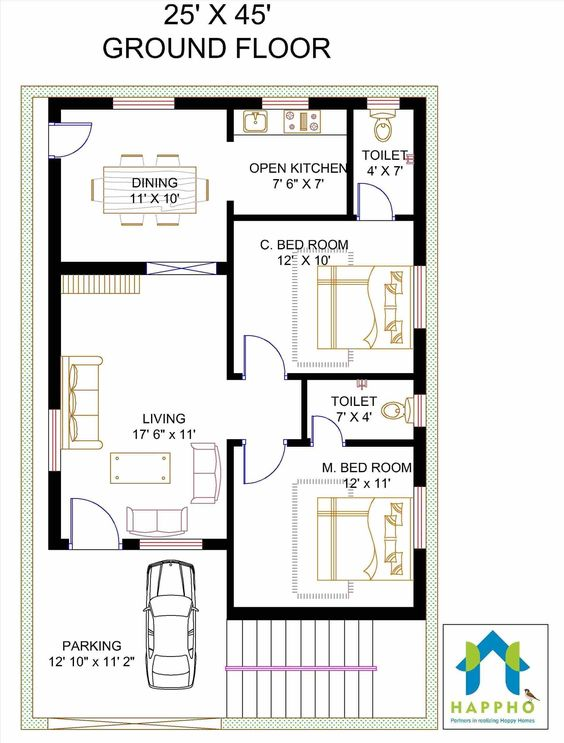door: (239, 329, 289, 372), (241, 448, 285, 487), (355, 180, 394, 213), (309, 412, 346, 443)
room: (48, 262, 235, 551), (225, 439, 427, 620), (227, 214, 427, 380), (49, 97, 234, 275), (228, 98, 353, 221), (347, 97, 425, 220), (302, 373, 427, 447)
window: (410, 266, 427, 330), (412, 485, 429, 549), (47, 408, 62, 473), (138, 538, 203, 550), (112, 98, 175, 109), (262, 96, 309, 110), (366, 97, 399, 111)
